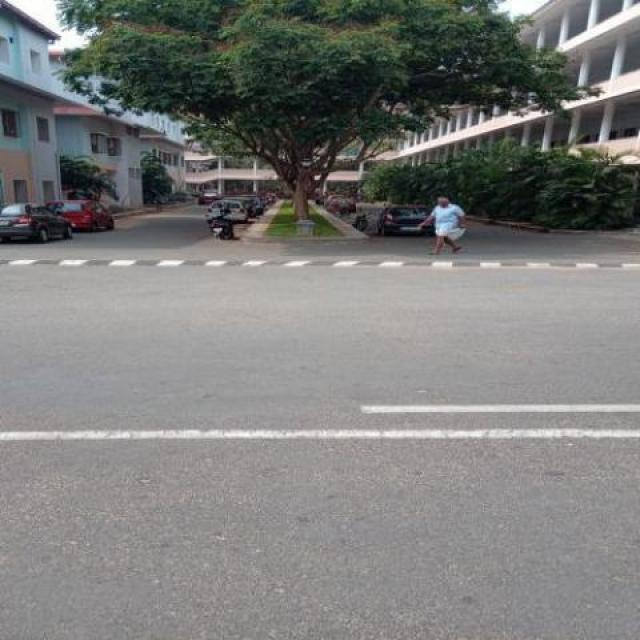Speed Bump: (0, 256, 639, 268)
